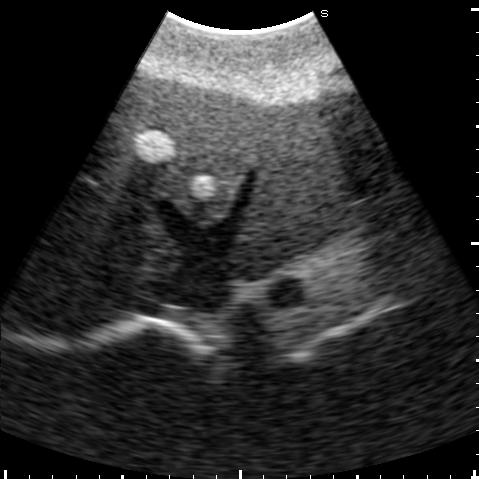S2: (228, 99, 351, 281)
S4: (90, 73, 269, 223)
S7: (6, 254, 125, 337)
S8: (46, 175, 177, 278)
Tumor: (132, 128, 174, 162), (190, 176, 218, 199)
